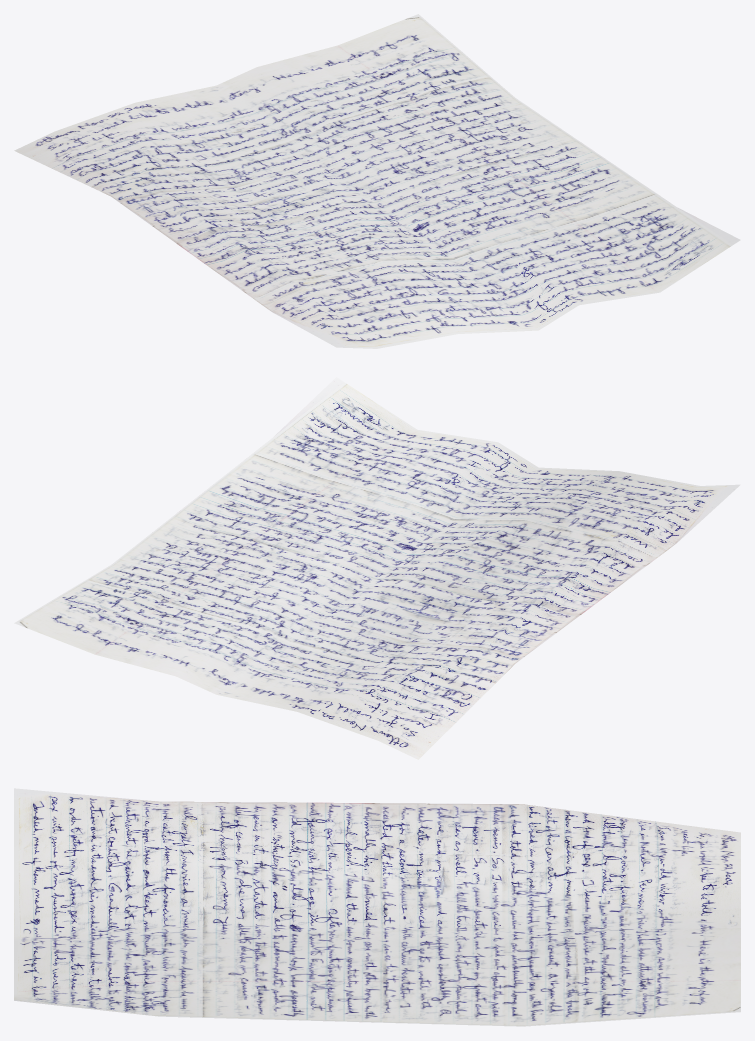
Rendered from paper1.fbx.
3 renders of one model, top to bottom at view 1: azimuth 30°, elevation 25°; view 2: azimuth 150°, elevation 25°; view 3: azimuth 270°, elevation 25°, orthographic. The views are drawn at different scales.
Visible parts, largest first — view 1: pPlane1; view 2: pPlane1; view 3: pPlane1.
Boxes of the visible parts, bbox=[...] form: pPlane1: bbox=[14, 14, 740, 348]; pPlane1: bbox=[14, 377, 740, 759]; pPlane1: bbox=[14, 788, 740, 1026].
Size of the model in its own units: 23.68 by 2.69 by 32.7.
1 material, 1 textured.
